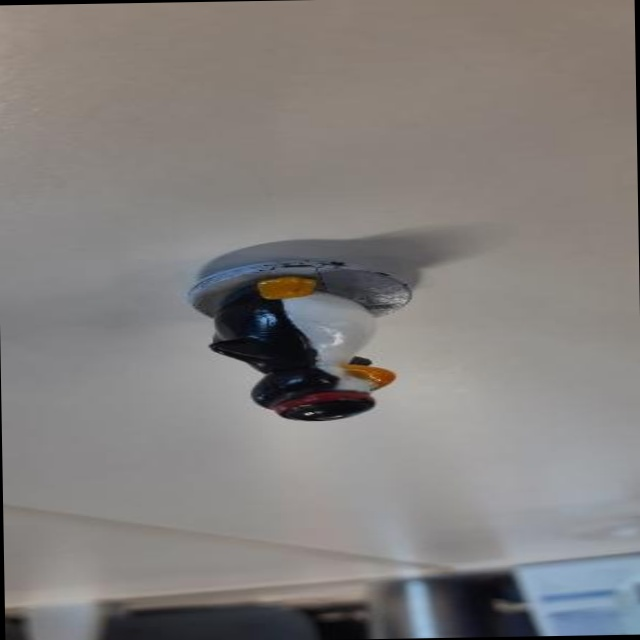Penguin: (185, 225, 523, 438)
